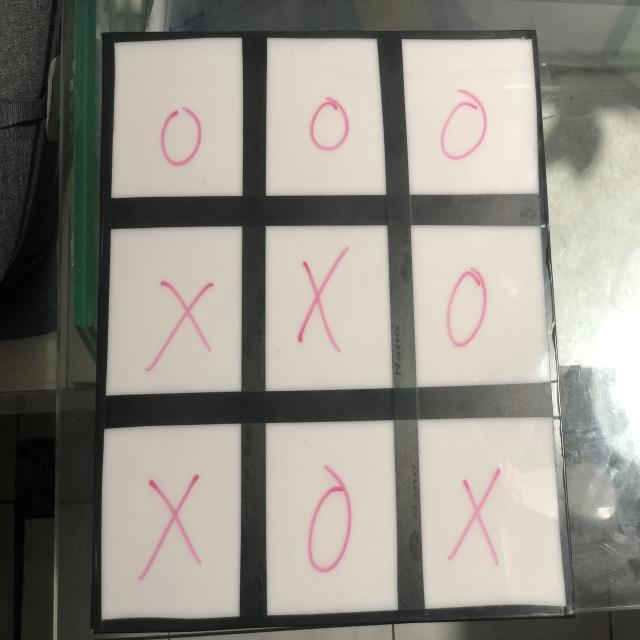o: (435, 89, 490, 167), (308, 483, 355, 572), (444, 269, 491, 351), (157, 104, 205, 167), (308, 89, 352, 157)
table: (70, 18, 575, 633)
x: (147, 271, 219, 371), (143, 470, 203, 578), (445, 471, 501, 564), (294, 256, 348, 348)
